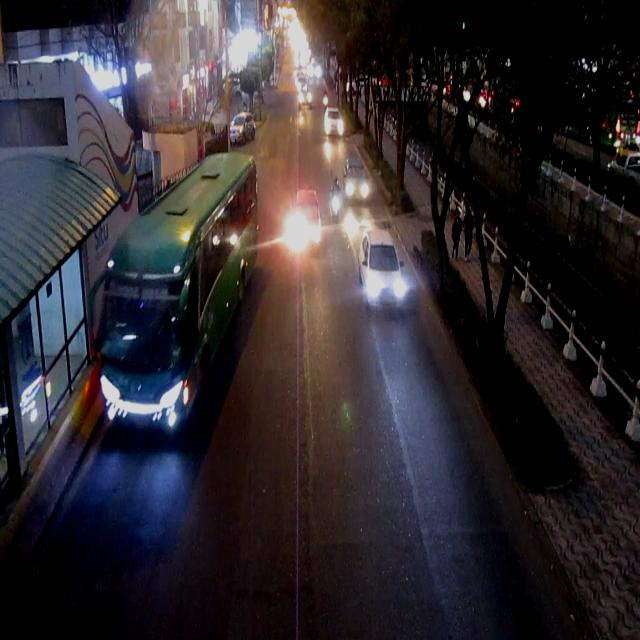BUS: (99, 158, 258, 431)
